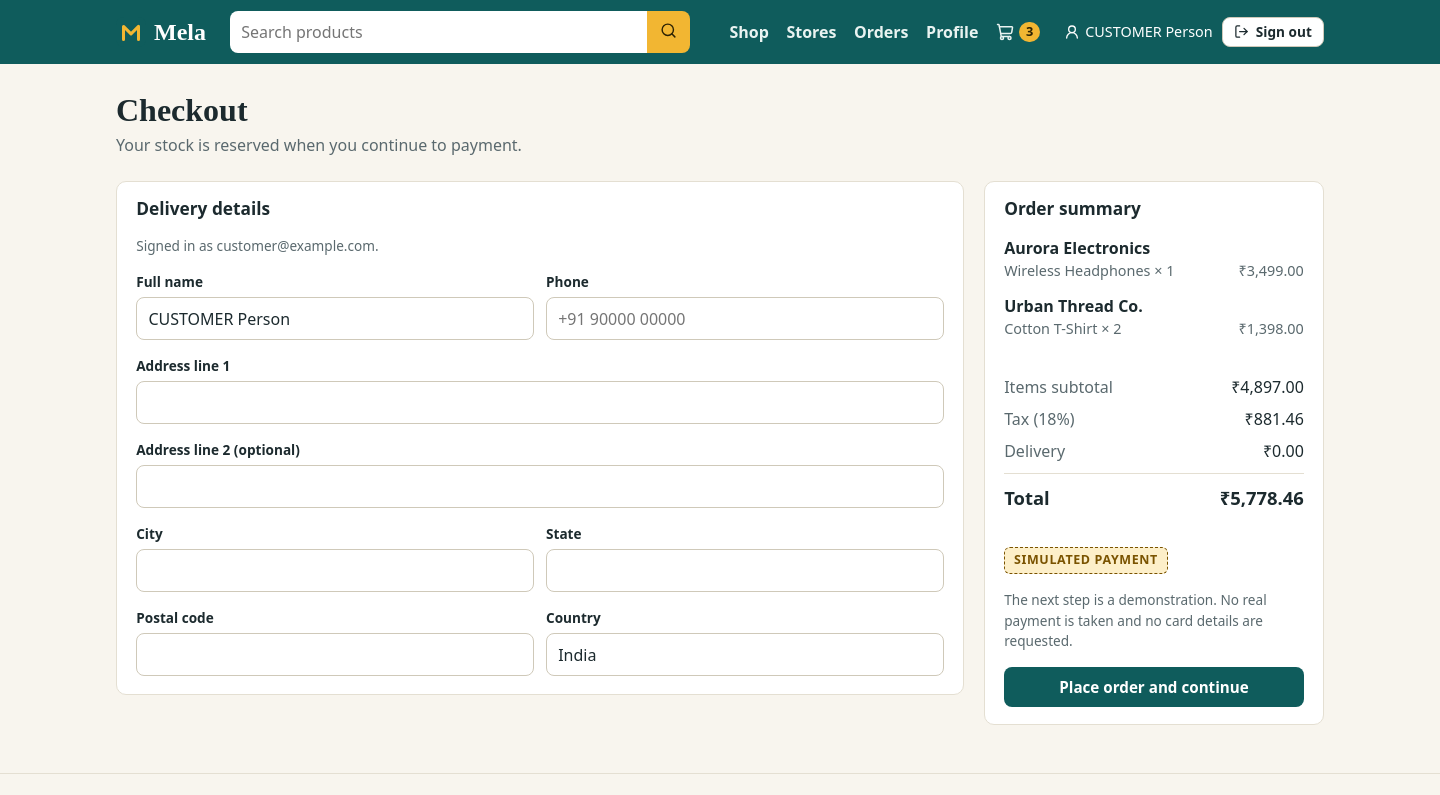
Test: checkout › displays stock conflicts reported by the server
Type "+91 90000 00010" into the field labelled "Phone".
click(745, 319); type("+91 90000 00010")  # box [546, 297, 944, 340]
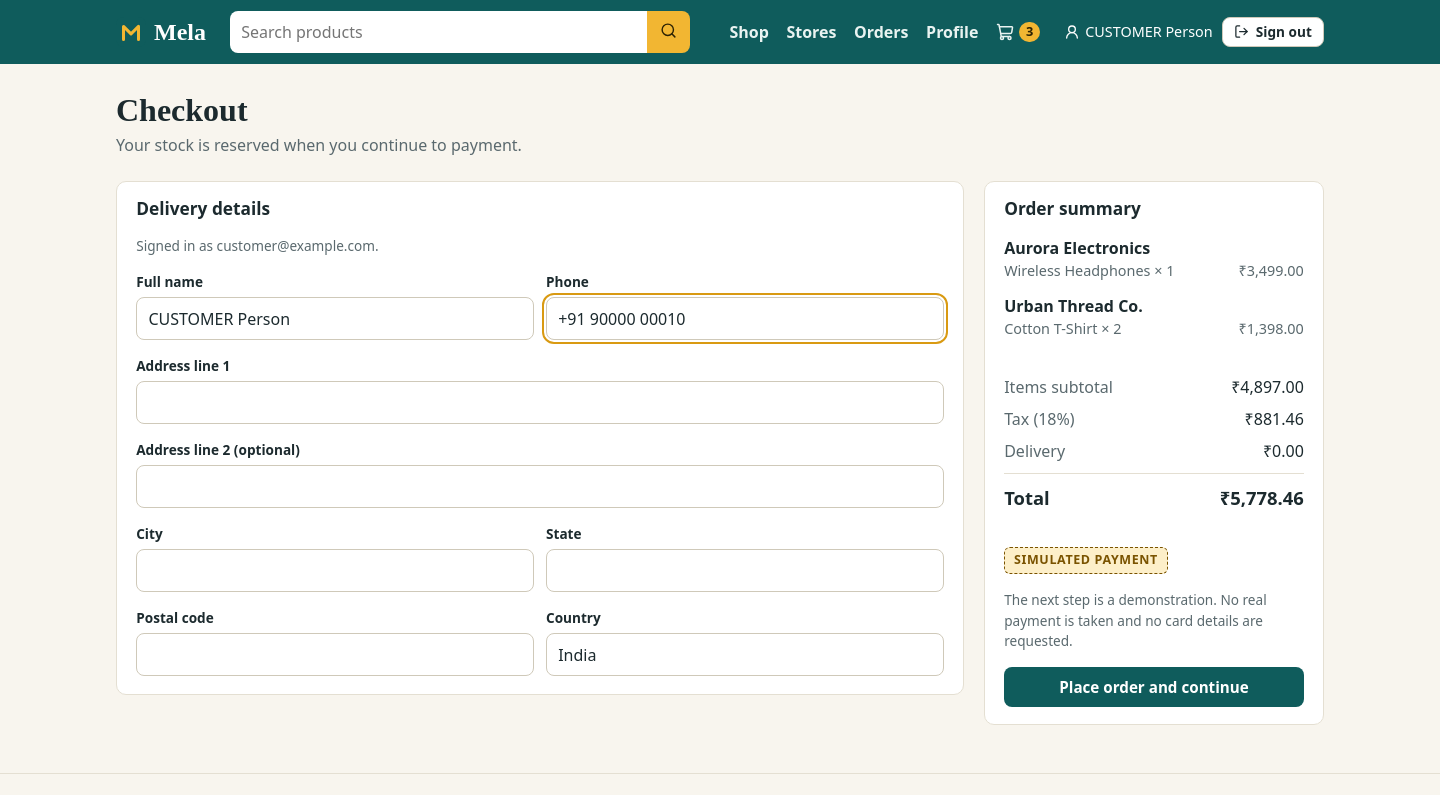
Type "101 Maple Residency" into the field labelled "Address line 1".
click(540, 403); type("101 Maple Residency")  # box [136, 381, 944, 424]
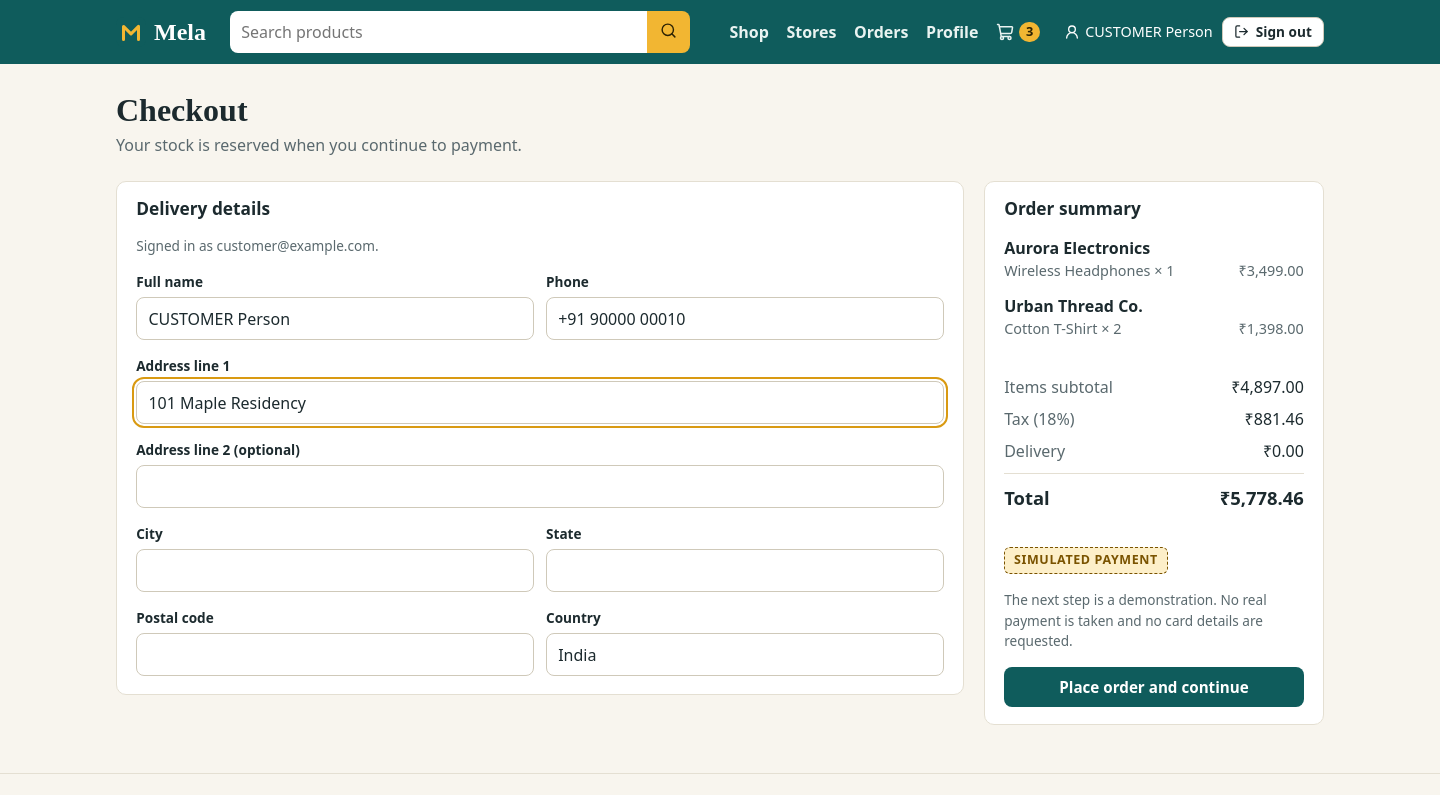
Type "Chennai" into the field labelled "City".
click(335, 571); type("Chennai")  # box [136, 549, 534, 592]
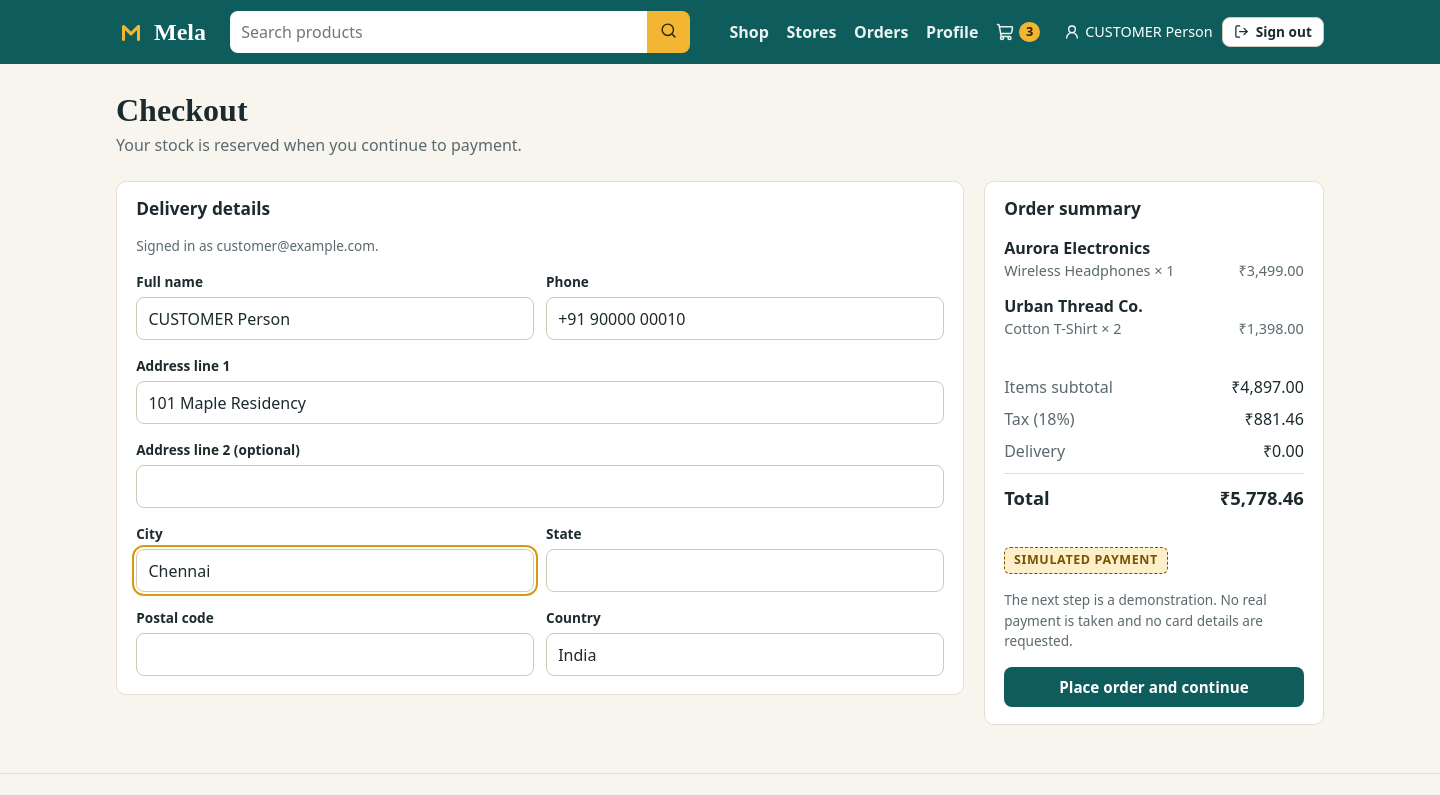
Type "Tamil Nadu" into the field labelled "State".
click(745, 571); type("Tamil Nadu")  # box [546, 549, 944, 592]
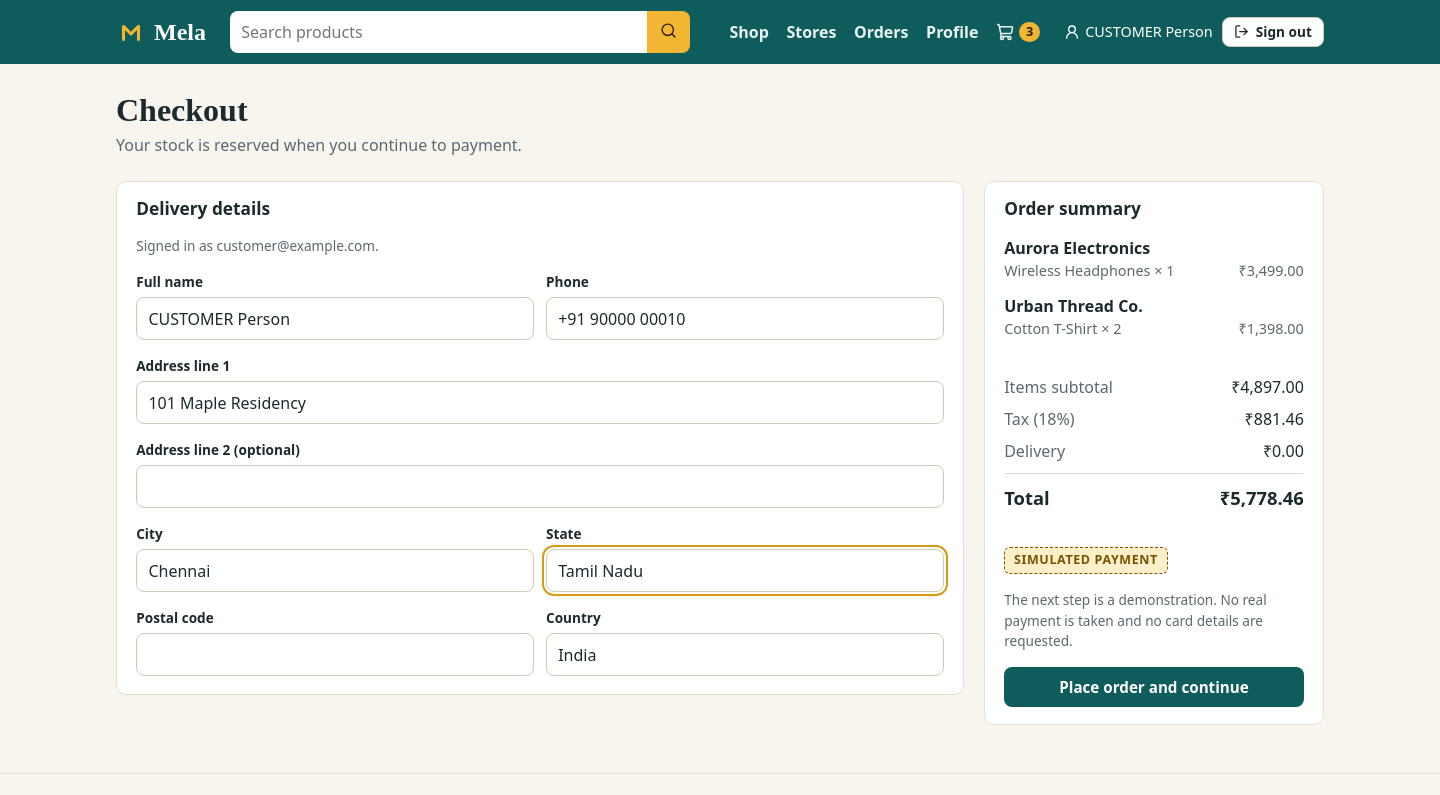
Type "600001" into the field labelled "Postal code".
click(335, 655); type("600001")  # box [136, 633, 534, 676]
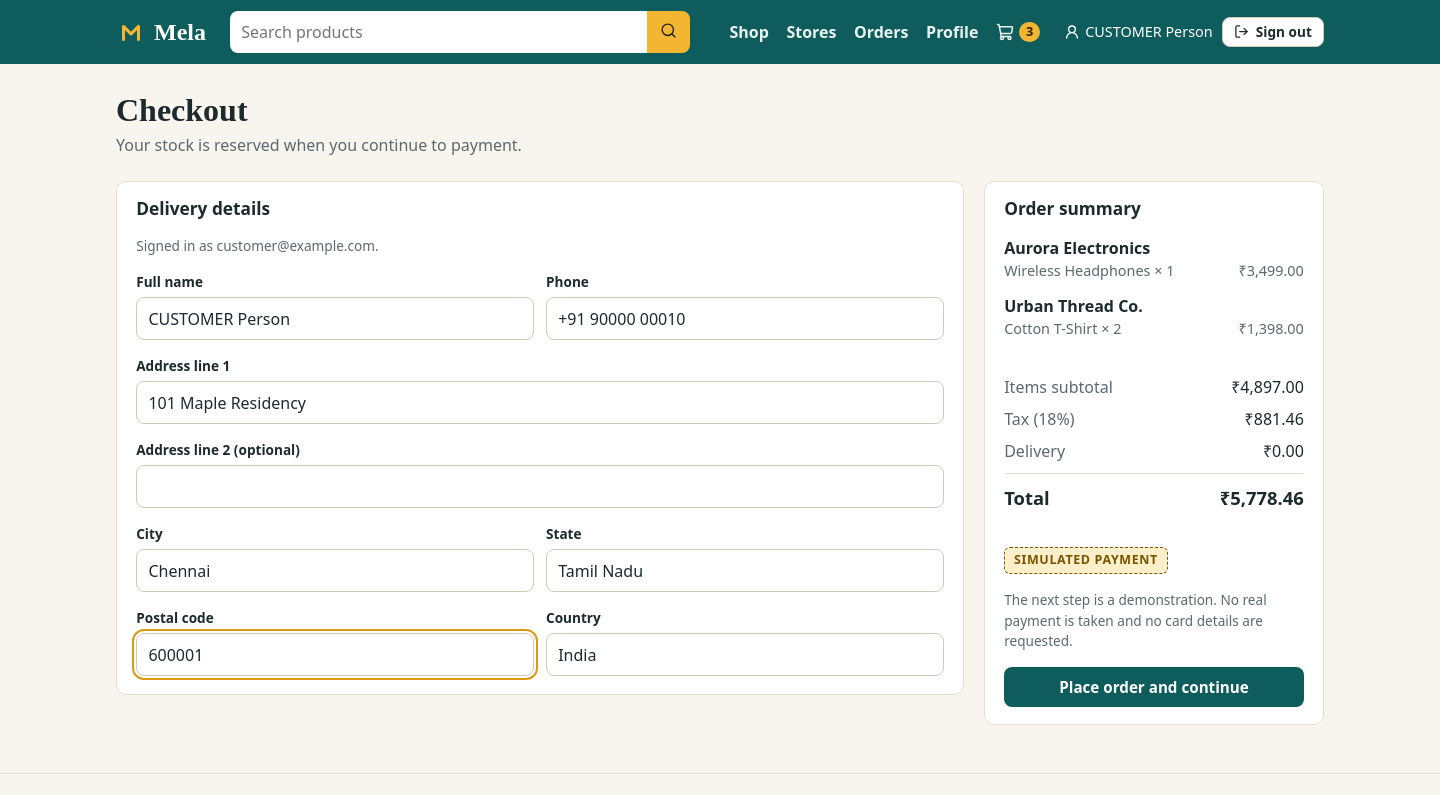
Click the button "Place order and continue".
click(1154, 687)  # box [1004, 667, 1304, 707]
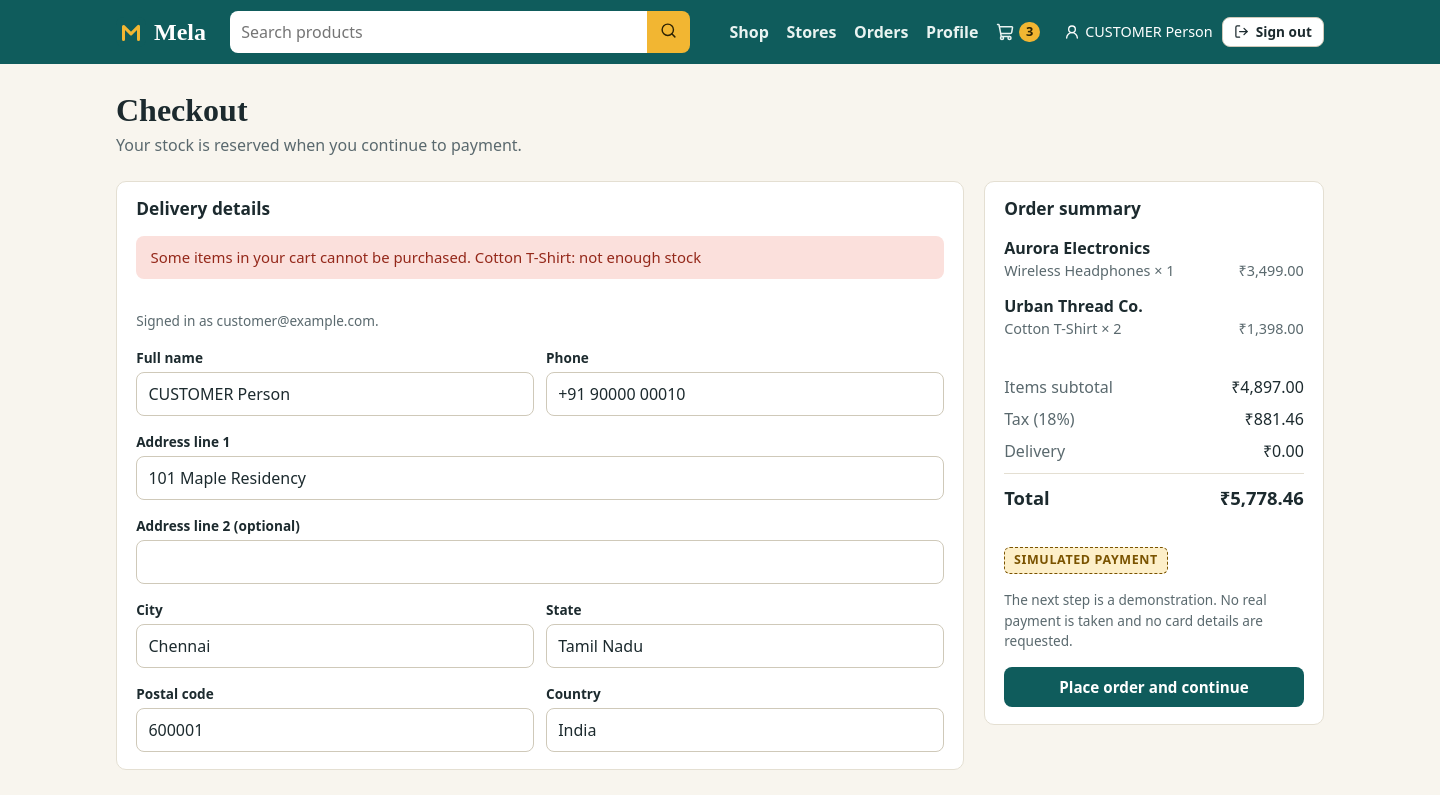
Now the message shows "Cotton T-Shirt: not enough stock", box [151, 248, 701, 268]
